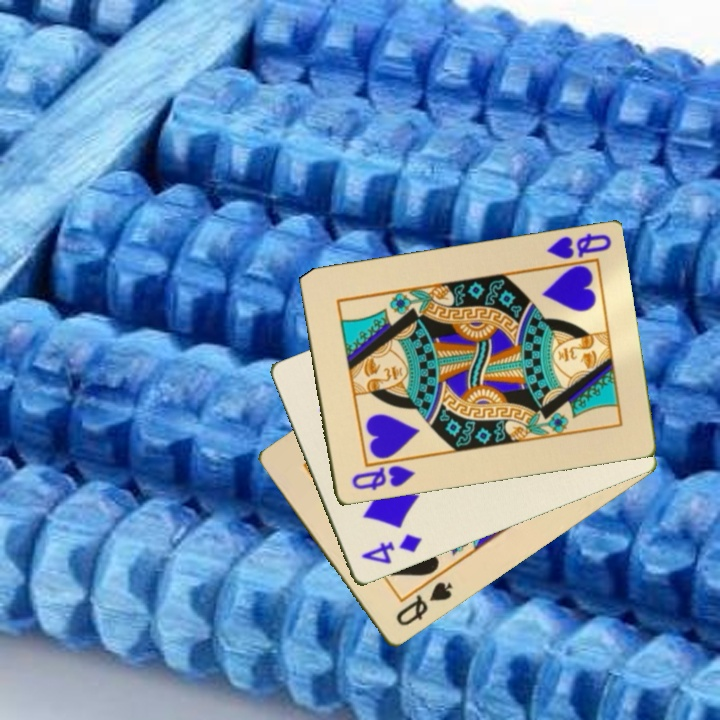4d: (358, 530, 425, 568)
Qh: (543, 230, 614, 263), (347, 462, 417, 494)
Qs: (392, 578, 455, 630)
